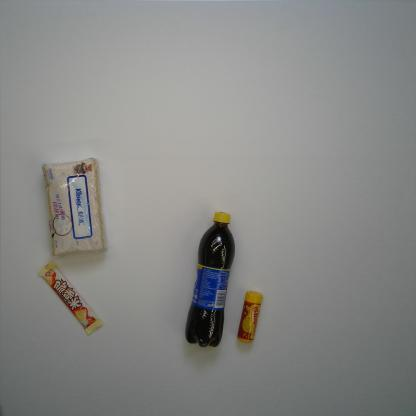Candy: (236, 290, 263, 344)
Chocolate: (37, 262, 105, 336)
Drink: (183, 208, 237, 349)
Tissue: (40, 156, 109, 258)
